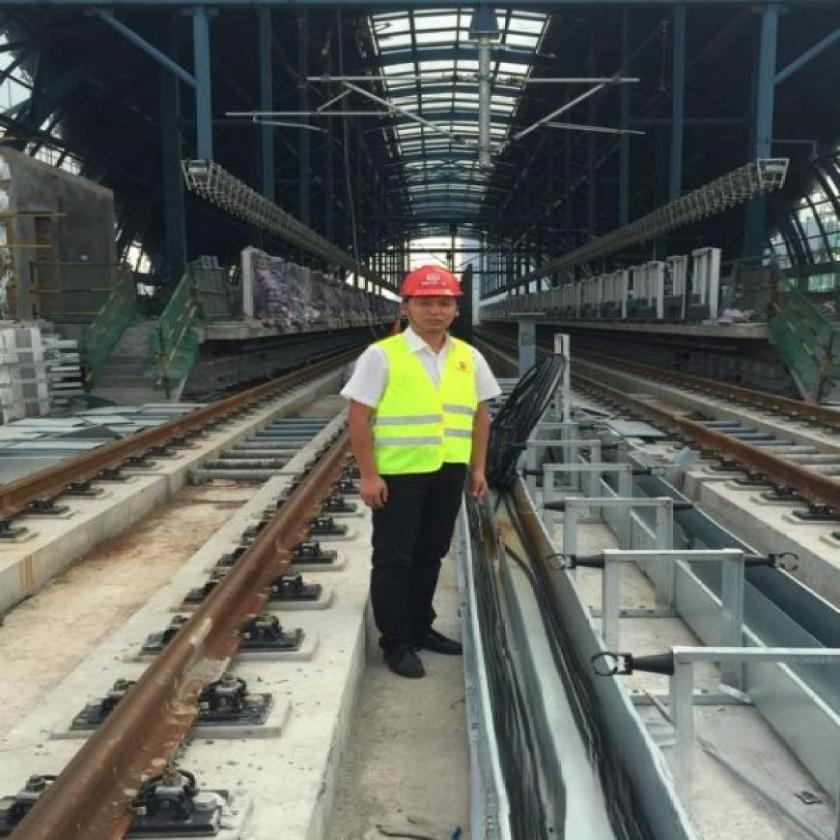Con_casco: (383, 258, 492, 350)
